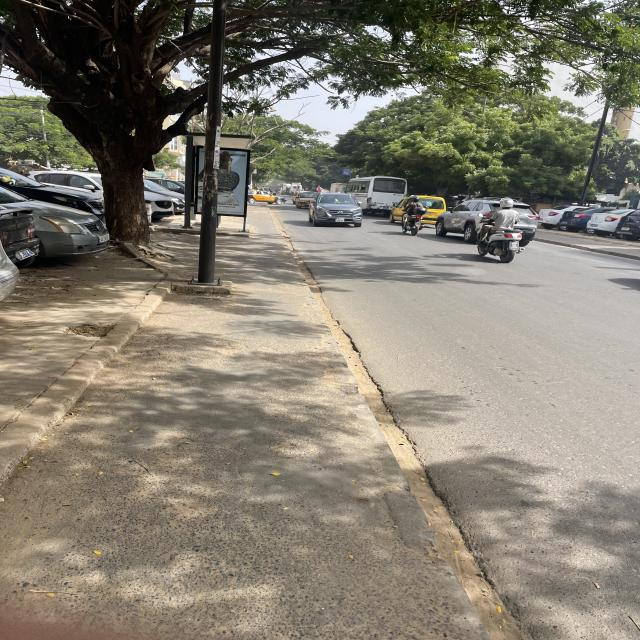bus tata: (344, 178, 412, 217)
moto: (474, 223, 527, 266), (398, 209, 432, 241)
particulier: (1, 185, 114, 264), (27, 171, 177, 223), (2, 169, 116, 219), (434, 198, 543, 245), (309, 194, 365, 227), (588, 206, 635, 237), (537, 205, 588, 232), (561, 206, 615, 231), (617, 209, 640, 240)
taxi: (393, 196, 449, 228), (248, 189, 284, 206), (295, 193, 321, 209)
